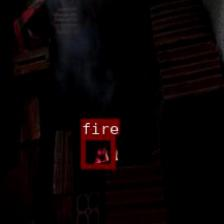fire: (80, 134, 114, 167)
